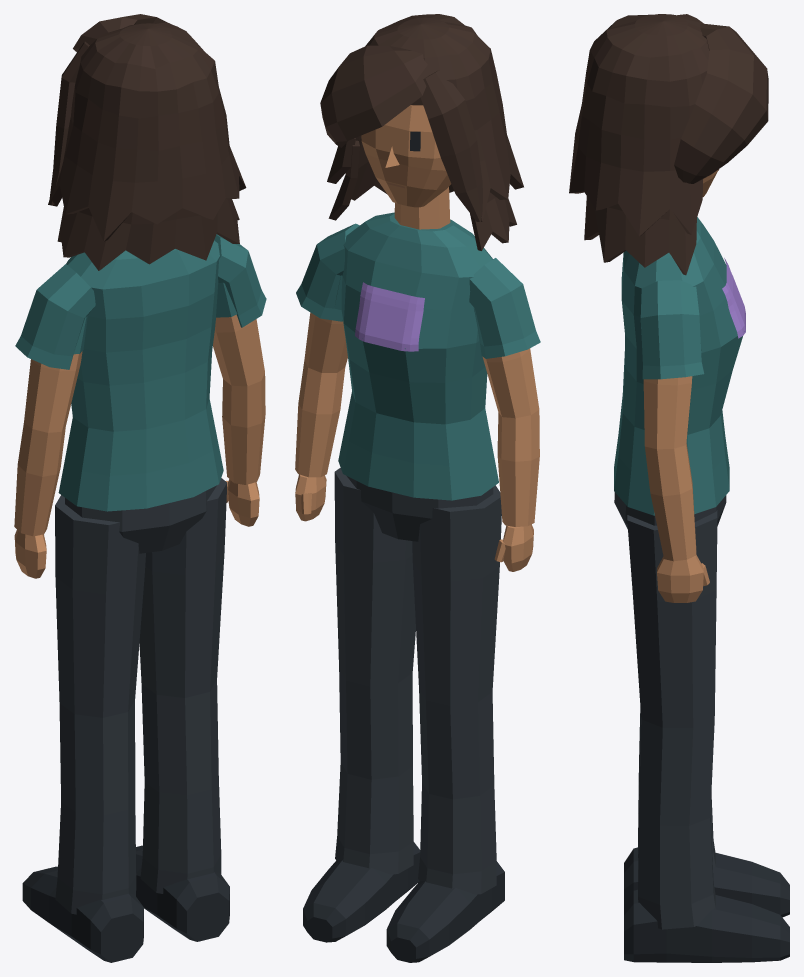
File: lwf_performer_female_body_v2.glb
3 renders of one model, left to right at view 1: azimuth 30°, elevation 25°; view 2: azimuth 150°, elevation 25°; view 3: azimuth 270°, elevation 25°, orthographic. The views are drawn at different scales.
Visible parts, largest first — view 1: LWF_Performer_BodyCore, LWF_Performer_IdleLeftArm, LWF_Performer_IdleRightArm; view 2: LWF_Performer_BodyCore, LWF_Performer_IdleLeftArm, LWF_Performer_IdleRightArm; view 3: LWF_Performer_BodyCore, LWF_Performer_IdleLeftArm, LWF_Performer_IdleRightArm.
Part boxes in pixels (box(x1,y1,x2,y2)): LWF_Performer_BodyCore: box(22, 14, 246, 962); LWF_Performer_IdleLeftArm: box(14, 240, 223, 578); LWF_Performer_IdleRightArm: box(213, 234, 266, 526); LWF_Performer_BodyCore: box(303, 14, 523, 962); LWF_Performer_IdleLeftArm: box(338, 212, 540, 571); LWF_Performer_IdleRightArm: box(295, 223, 359, 521); LWF_Performer_BodyCore: box(569, 14, 789, 962); LWF_Performer_IdleLeftArm: box(614, 217, 744, 515); LWF_Performer_IdleRightArm: box(640, 280, 709, 602).
Bounding box in the file's own units: 0.4694 × 1.7 × 0.3721.
Materials: 1 (1 with a texture image).
